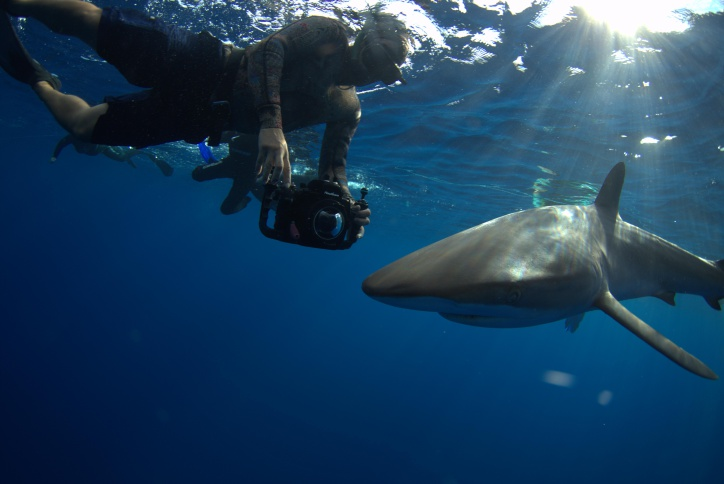Sedoso: (348, 160, 724, 384)
